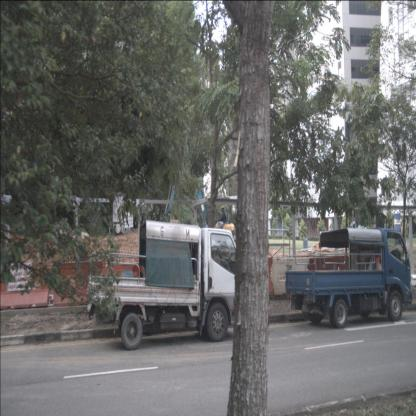barrier: (49, 260, 102, 307), (0, 262, 50, 309), (228, 256, 273, 295), (310, 255, 347, 296), (272, 257, 310, 296)
